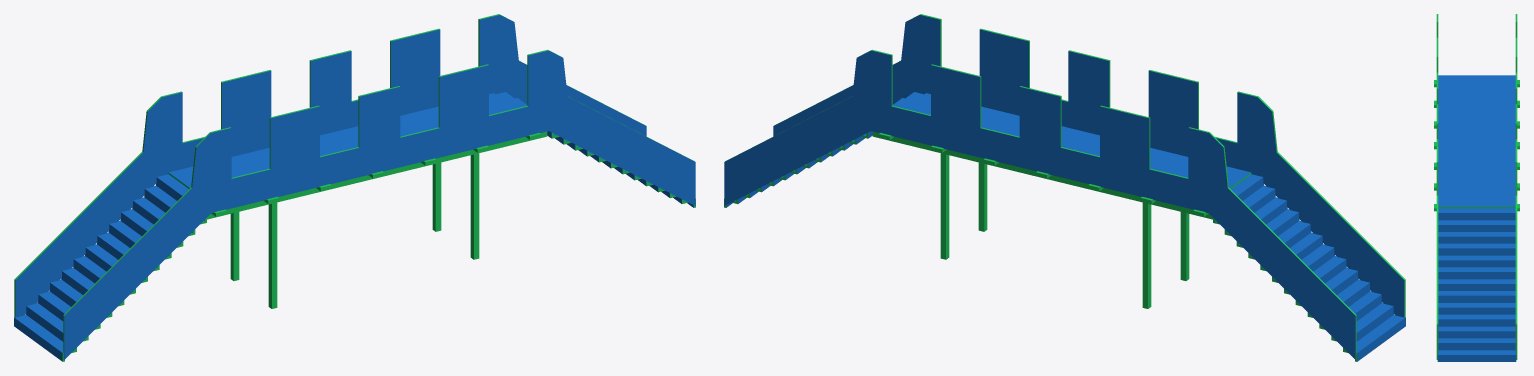
The model's file is SM_plywood_fence_5.fbx.
3 views of the same model, side by side, from view 1: azimuth 30°, elevation 25°; view 2: azimuth 150°, elevation 25°; view 3: azimuth 270°, elevation 25° (orthographic). The views are drawn at different scales.
Parts seen in each view (by area): view 1: Cube_10; view 2: Cube_10; view 3: Cube_10.
Boxes of the visible parts, x1,y1,x2,y2 form: Cube_10: (14, 14, 695, 361); Cube_10: (724, 14, 1405, 361); Cube_10: (1434, 14, 1519, 361).
Bounding box in the file's own units: 1124 × 331 × 163.
